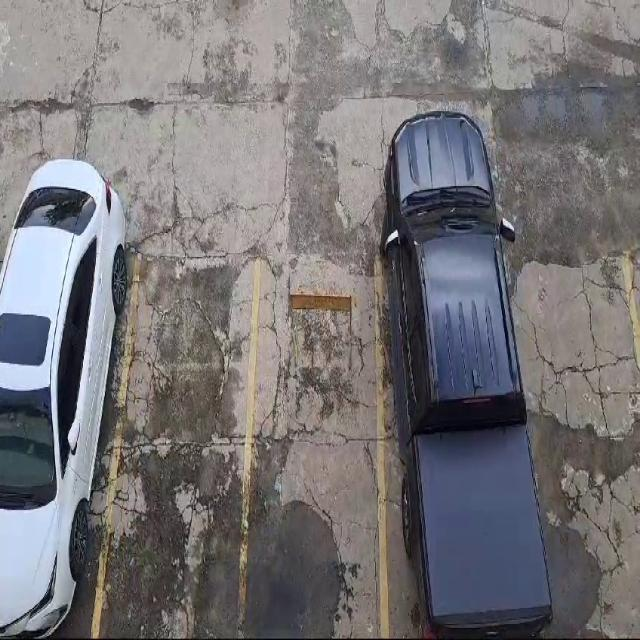empty: (94, 256, 257, 632), (241, 262, 384, 633), (503, 252, 639, 639)
notEmpty: (377, 249, 529, 639), (1, 232, 140, 639)
